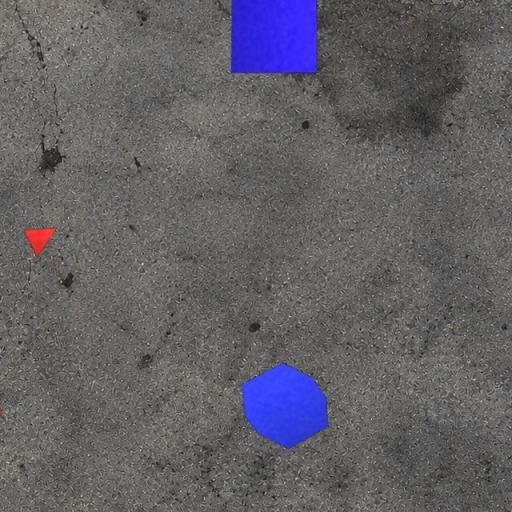BLUE_SQUARE: (230, 0, 318, 74)
